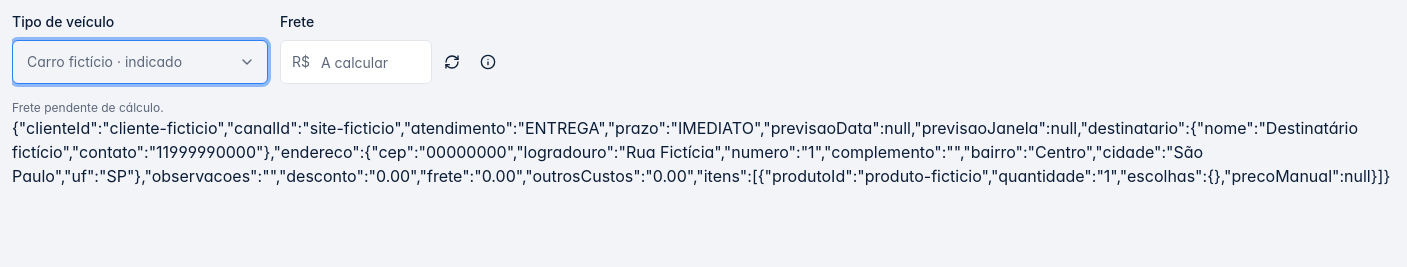
Scenario: Linha compacta de veículo e frete › mostra mudança de veículo e restaura escolha automática ao selecionar o indicado
Press Arrowdown
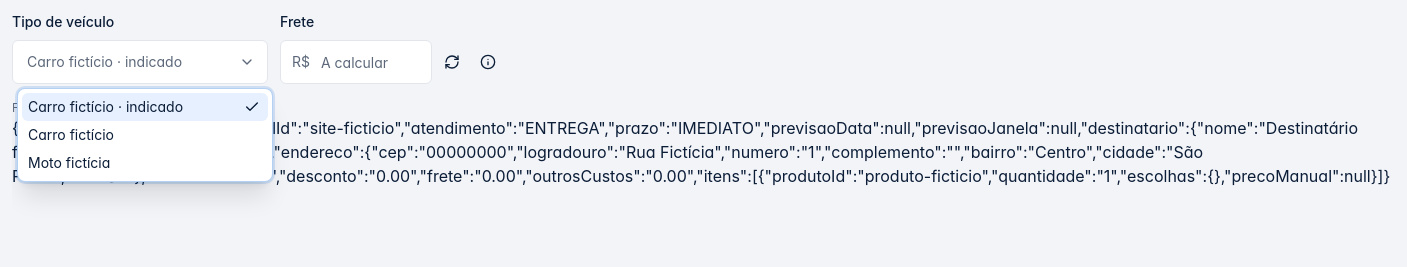
Click the option "Moto fictícia" at (69, 162), box [28,154,110,171]
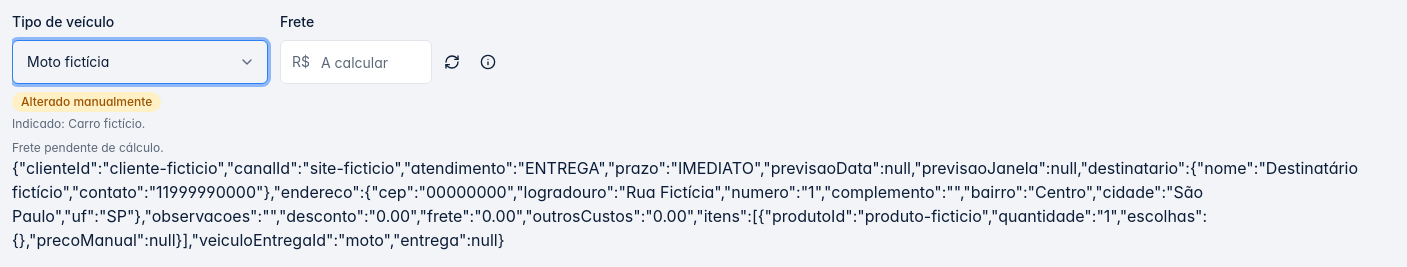
Now the text "Alterado manualmente" is shown, box [12,92,161,112]
Now the text "Indicado: Carro fictício." is shown, box [12,116,145,132]
Press Arrowdown
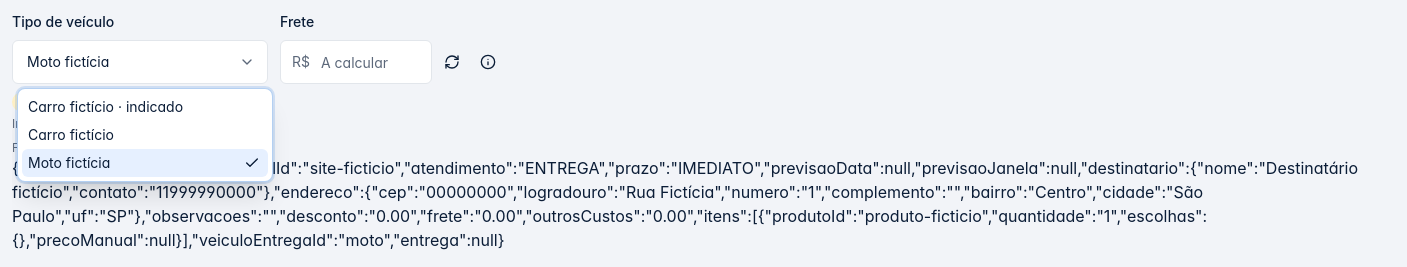
Click the option "Carro fictício · indicado" at (106, 106), box [28,98,183,115]
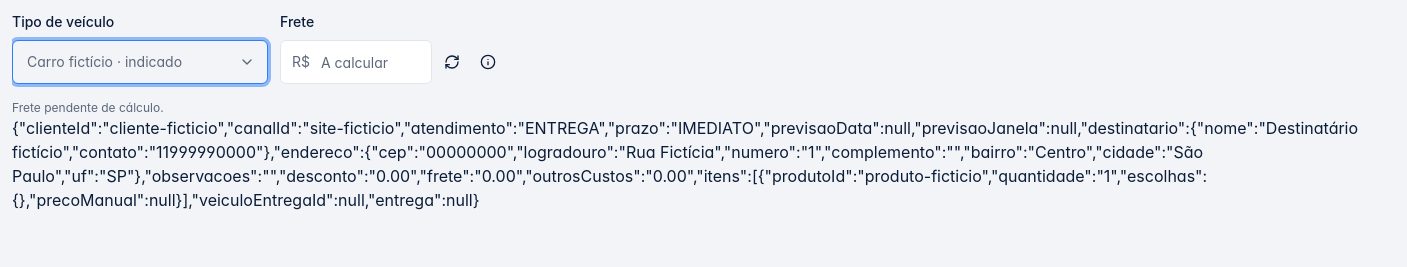
Now the text "Alterado manualmente" is gone
